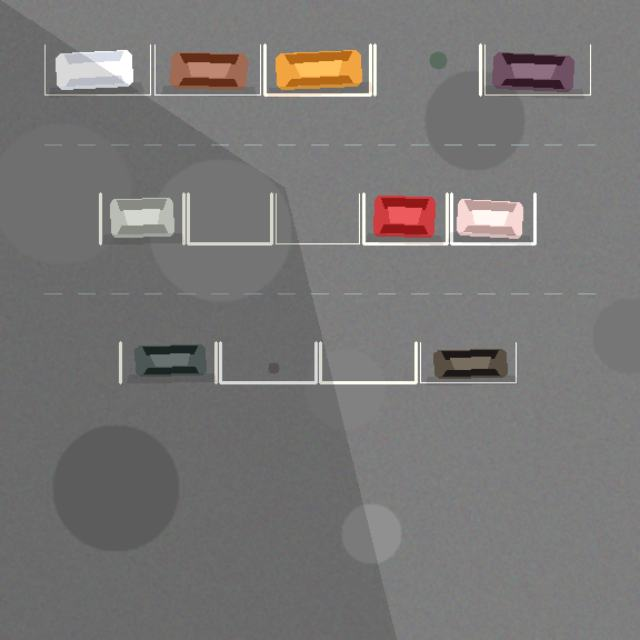space-empty: (374, 44, 480, 94), (188, 193, 271, 243), (276, 193, 359, 243), (220, 342, 316, 382), (320, 342, 416, 382)
space-occupied: (44, 44, 150, 94), (154, 44, 260, 94), (264, 44, 370, 94), (484, 44, 590, 94), (363, 193, 447, 243), (100, 193, 183, 243), (451, 193, 534, 243), (120, 342, 216, 382), (420, 342, 516, 382)
